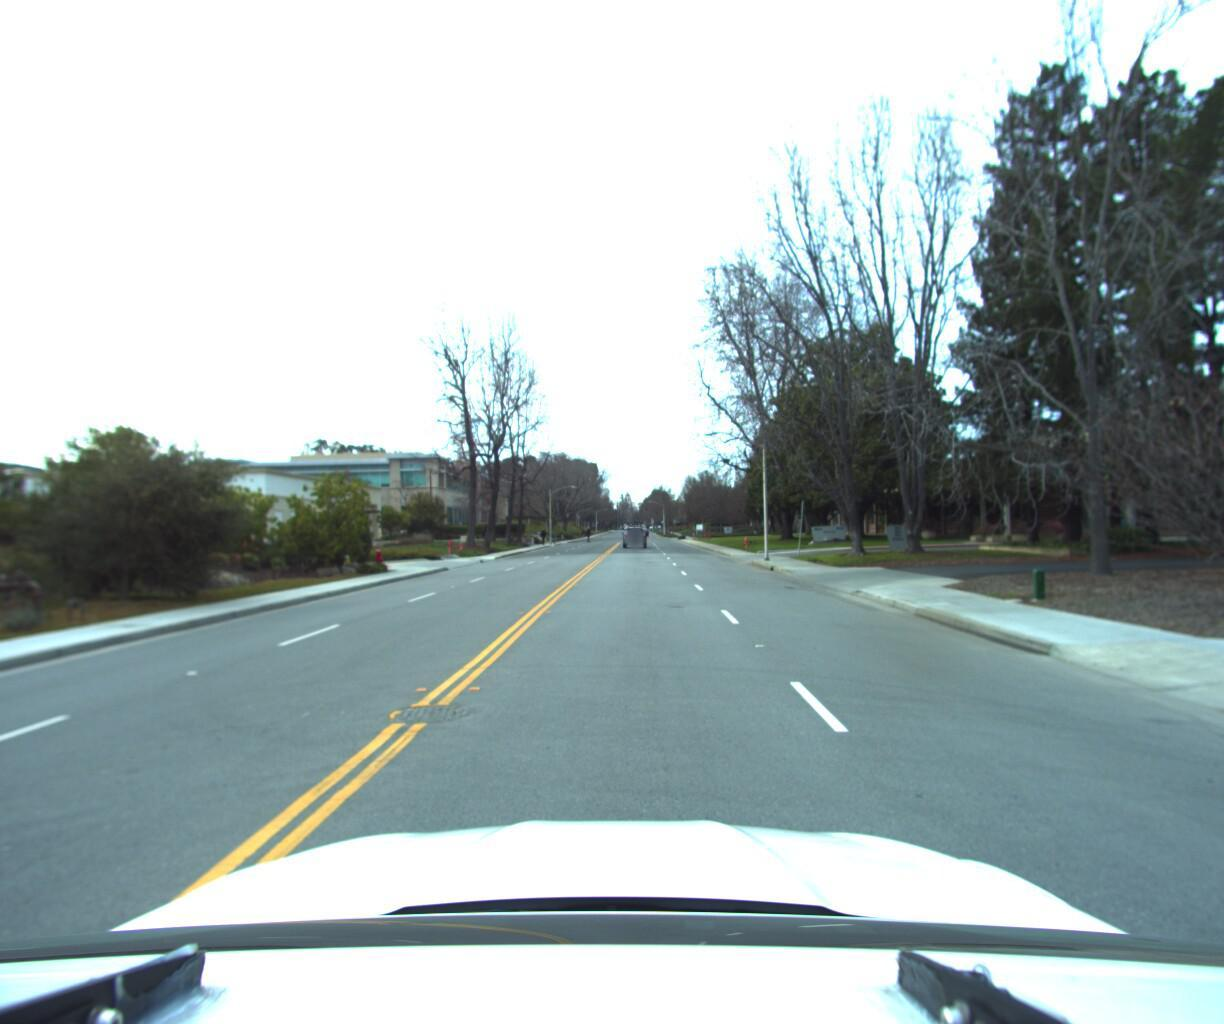car: (623, 523, 646, 545)
